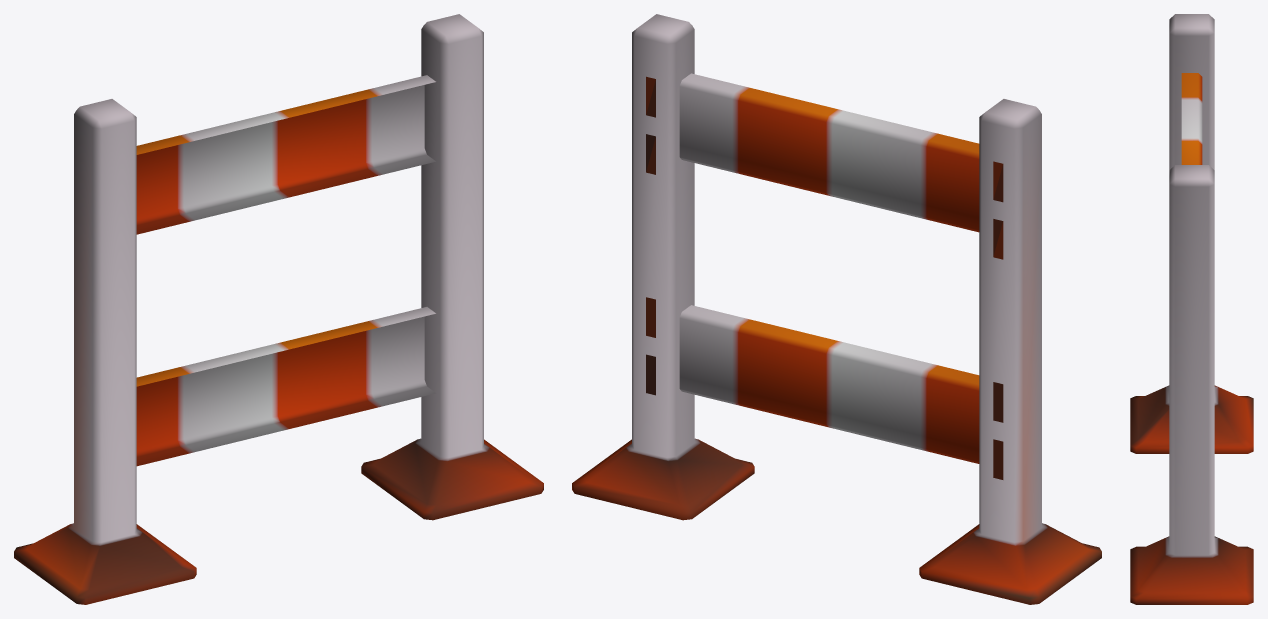
Rendered from RoadWorksBarrier01.fbx.
3 views of the same model, side by side, from view 1: azimuth 30°, elevation 25°; view 2: azimuth 150°, elevation 25°; view 3: azimuth 270°, elevation 25° (orthographic). The views are drawn at different scales.
Parts seen in each view (by area): view 1: RoadWorksBarrier01; view 2: RoadWorksBarrier01; view 3: RoadWorksBarrier01.
Boxes of the visible parts, box(x1,y1,x2,y2) form: RoadWorksBarrier01: box(14, 14, 543, 604); RoadWorksBarrier01: box(572, 14, 1101, 604); RoadWorksBarrier01: box(1130, 14, 1253, 604).
Bounding box in the file's own units: 166 × 155 × 42.57.
